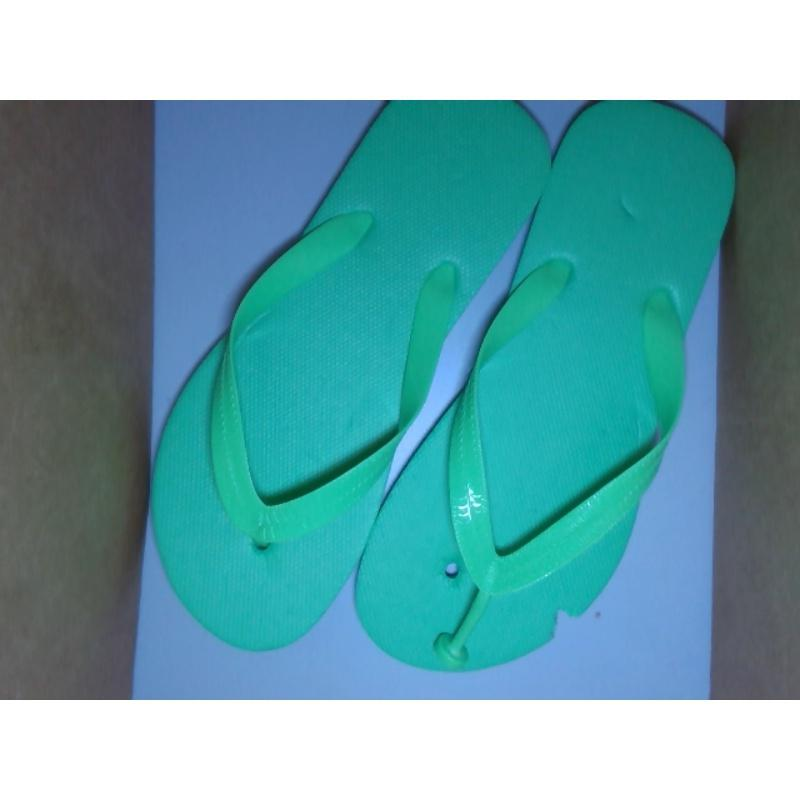chipped: (544, 588, 592, 659)
detached: (428, 602, 483, 678)
